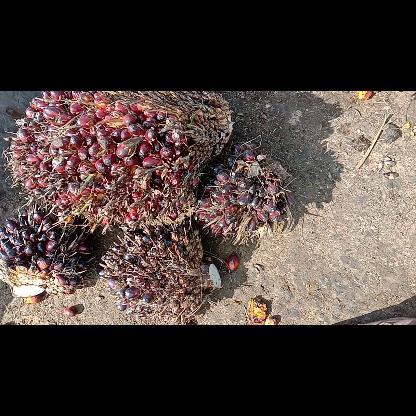TBS abnormal: (104, 230, 222, 324), (196, 146, 290, 235), (2, 212, 90, 298)
TBS masak: (12, 91, 233, 221)
